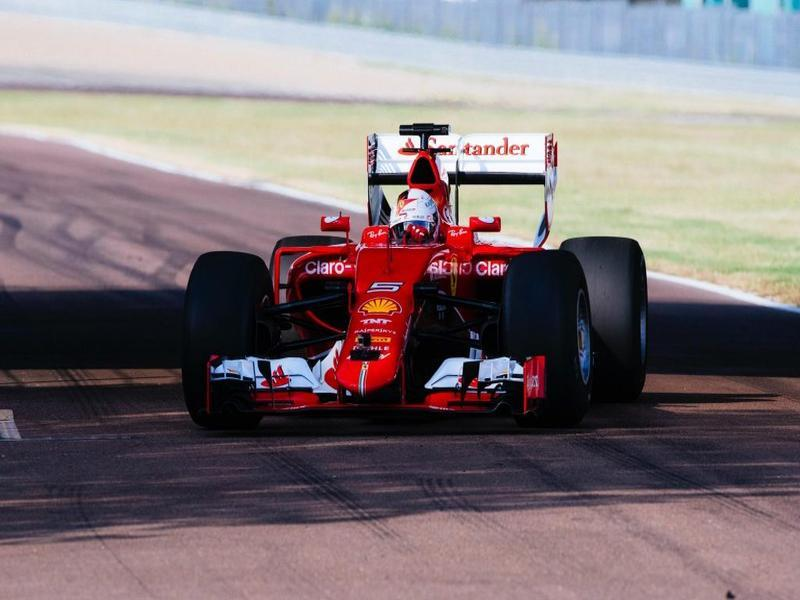racecar: (171, 104, 652, 431)
